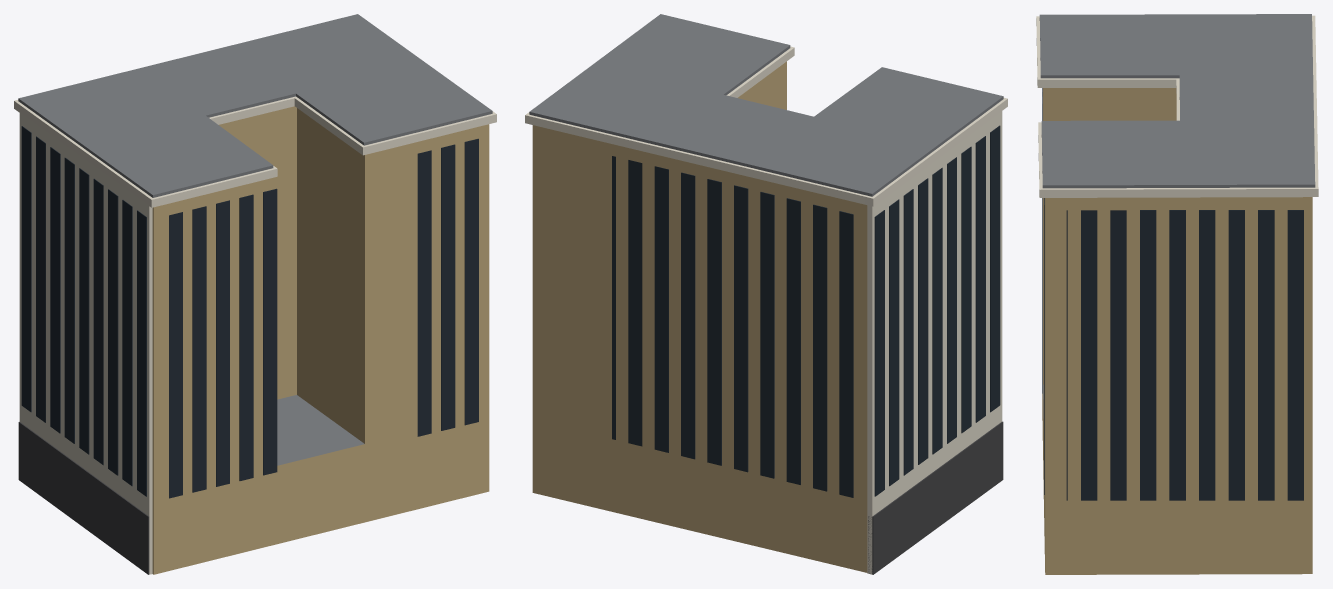
The model's file is kearns_building.glb.
3 renders of one model, left to right at view 1: azimuth 30°, elevation 25°; view 2: azimuth 150°, elevation 25°; view 3: azimuth 270°, elevation 25°, orthographic. The views are drawn at different scales.
Visible parts, largest first — view 1: Kearns_Building; view 2: Kearns_Building; view 3: Kearns_Building.
Boxes of the visible parts, <box> form: Kearns_Building: <box>14,14,496,574</box>; Kearns_Building: <box>525,14,1007,574</box>; Kearns_Building: <box>1036,14,1318,574</box>.
Bounding box in the file's own units: 50.23 × 52.5 × 34.36.
